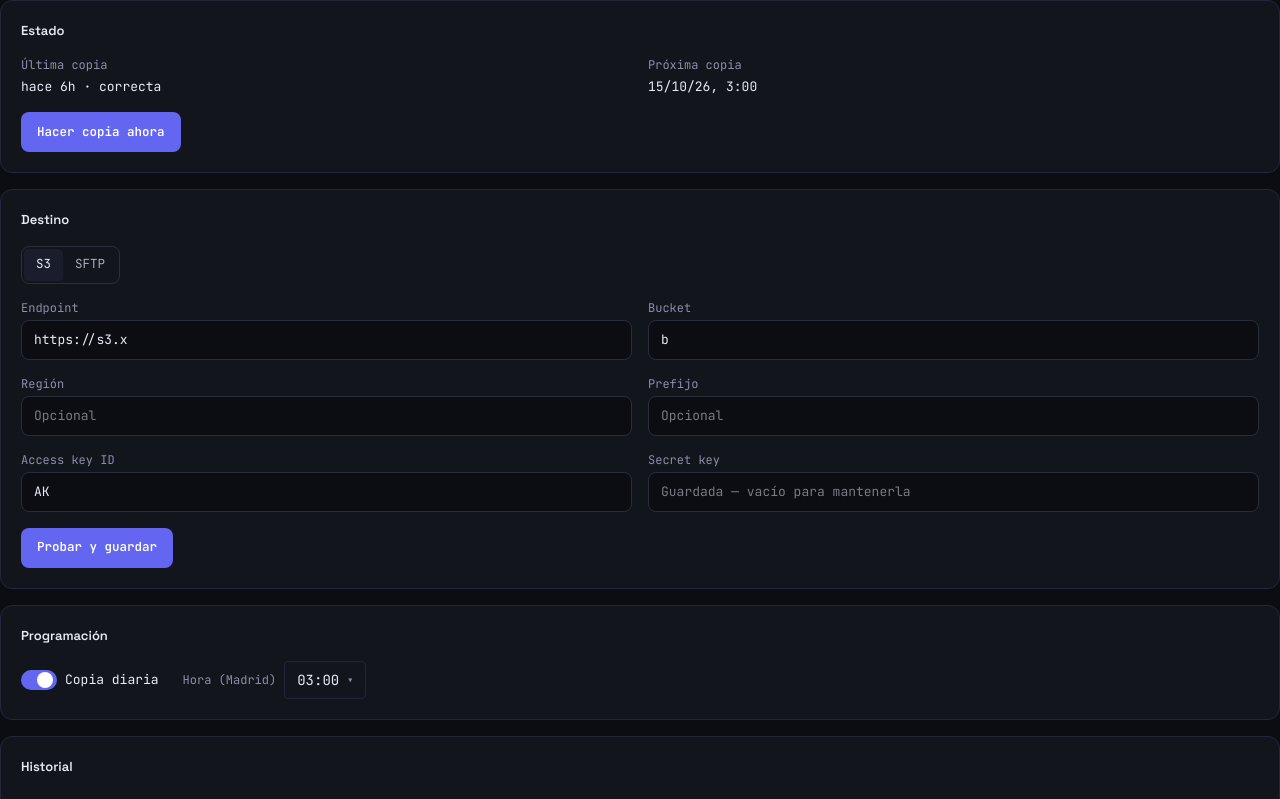
Scenario: ConfiguracionBackups › «Hacer copia ahora» lanza la copia
The width and height of the screenshot is (1280, 799).
Click the button "Hacer copia ahora" at x=101, y=132, box x1=21 y1=112 x2=180 y2=152
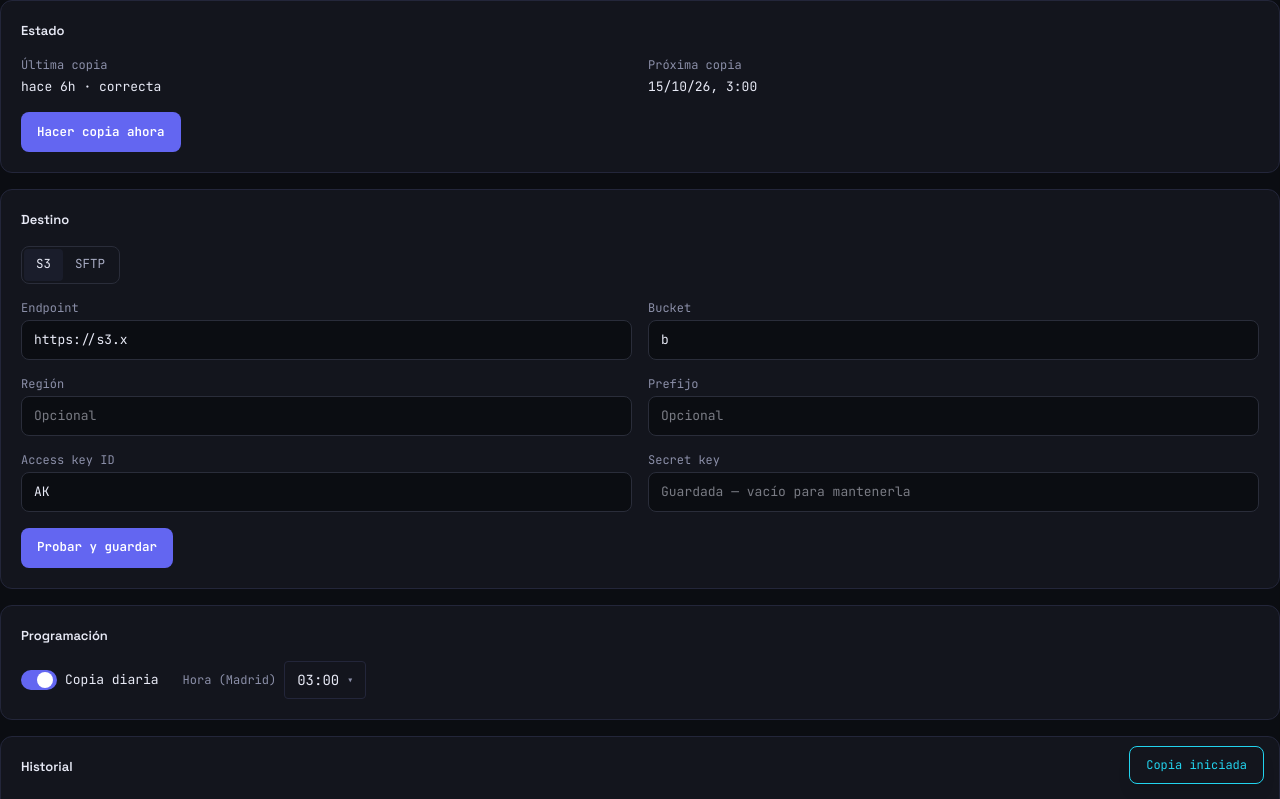
Expected: the text "Copia iniciada" is shown, x1=1129 y1=746 x2=1264 y2=784
